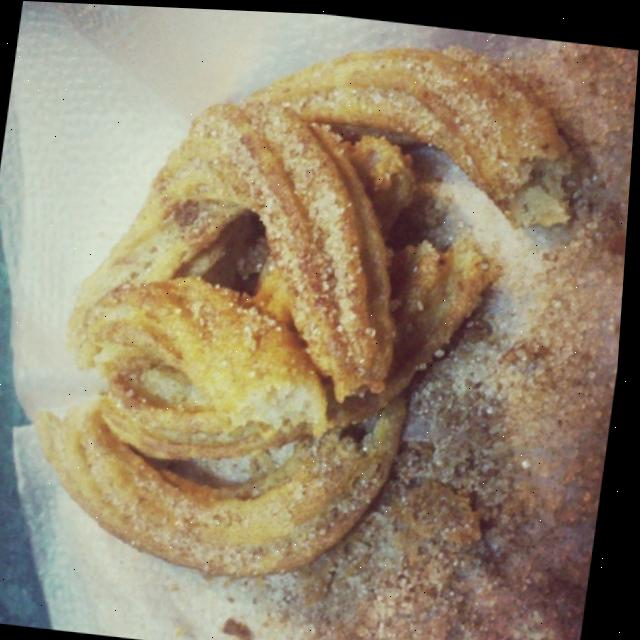炸货点心: (0, 1, 600, 621)
